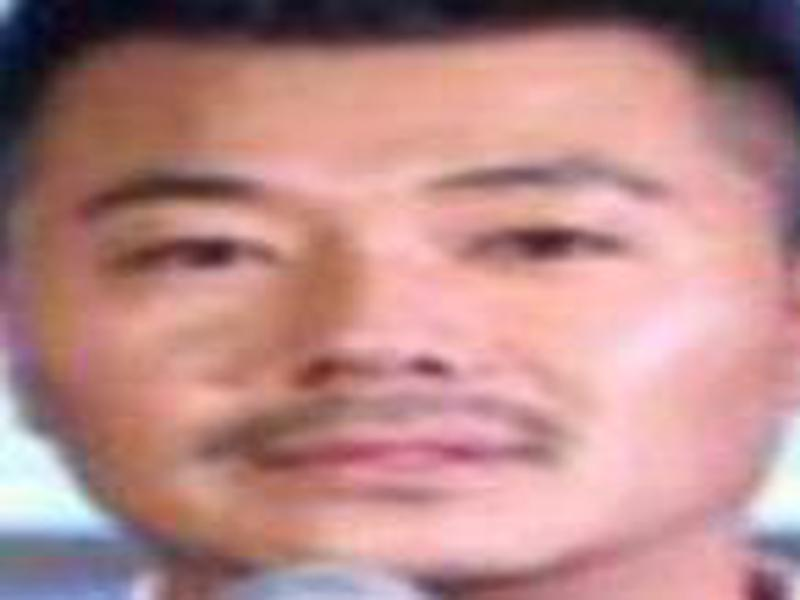without_mask: (25, 63, 778, 580)
